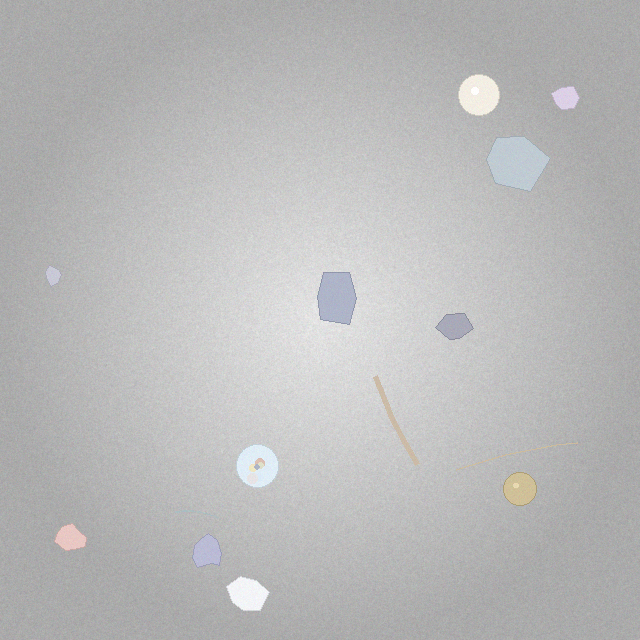fiber: (370, 371, 423, 470), (454, 441, 580, 473), (174, 509, 219, 519)
foam: (236, 445, 279, 487)
fragment: (486, 136, 551, 192), (318, 272, 357, 325), (227, 576, 269, 610), (435, 314, 473, 339), (193, 534, 221, 567), (54, 524, 87, 550), (552, 86, 580, 110), (45, 266, 62, 286)
pellet: (458, 74, 500, 116), (503, 472, 536, 505)
